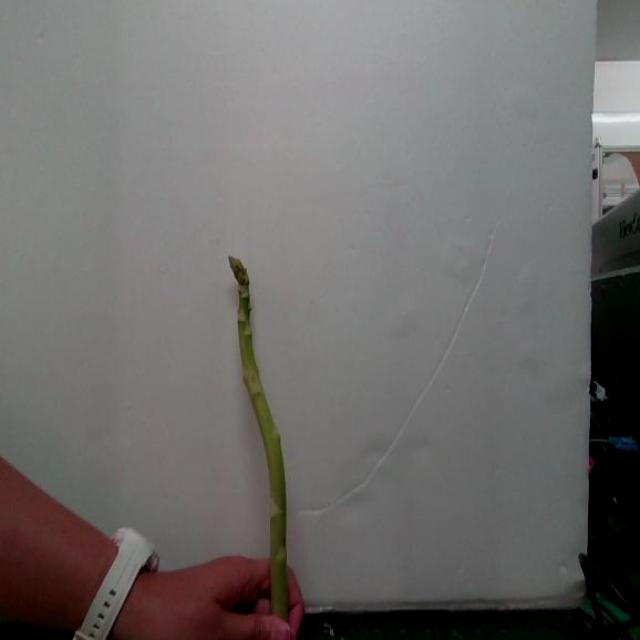aspargus: (227, 259, 291, 623)
